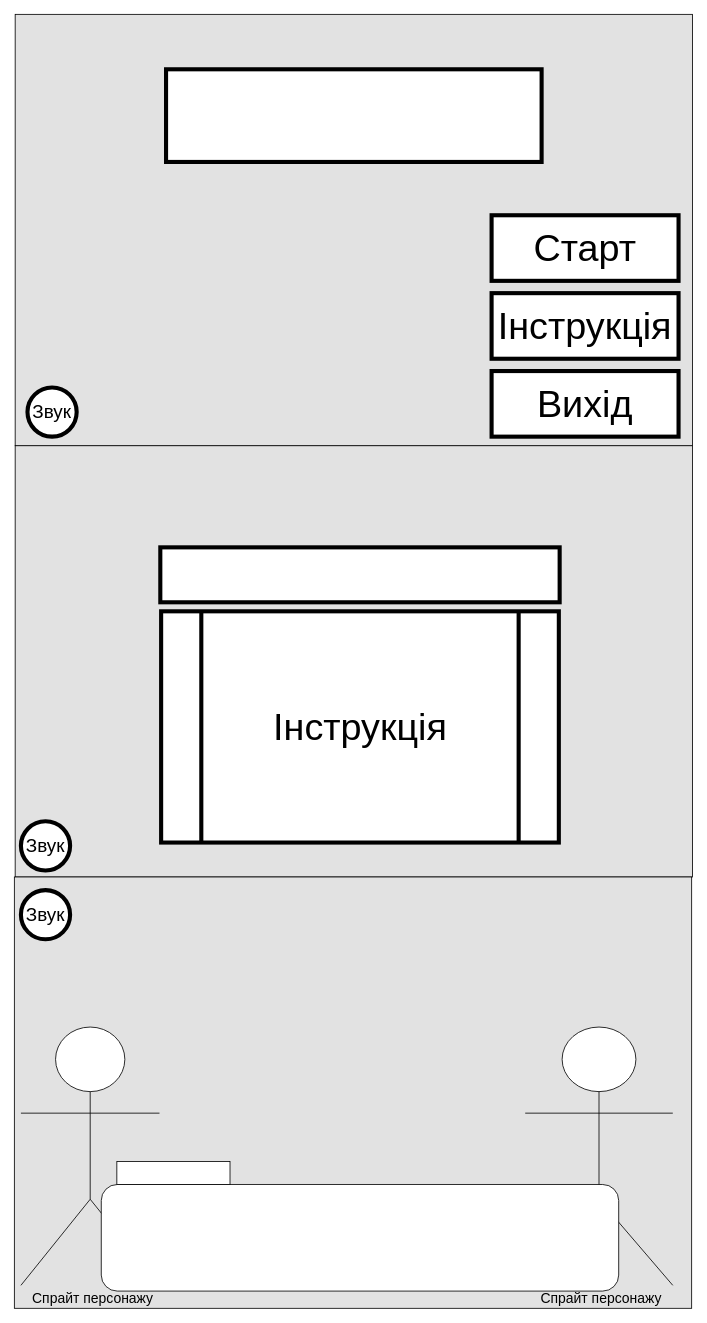
The diagram is 707 pixels wide and 1323 high, and some of its shapes have lost their labels. Here are the shapes that lost their labels. From the top down, the centre of each, then its label:
At pixel 353 115: "Логотип".
At pixel 359 574: "Головне меню".
At pixel 173 1172: "Ім'я діючого персонажу".
At pixel 359 1237: "Діалоги та дії персонажів".
